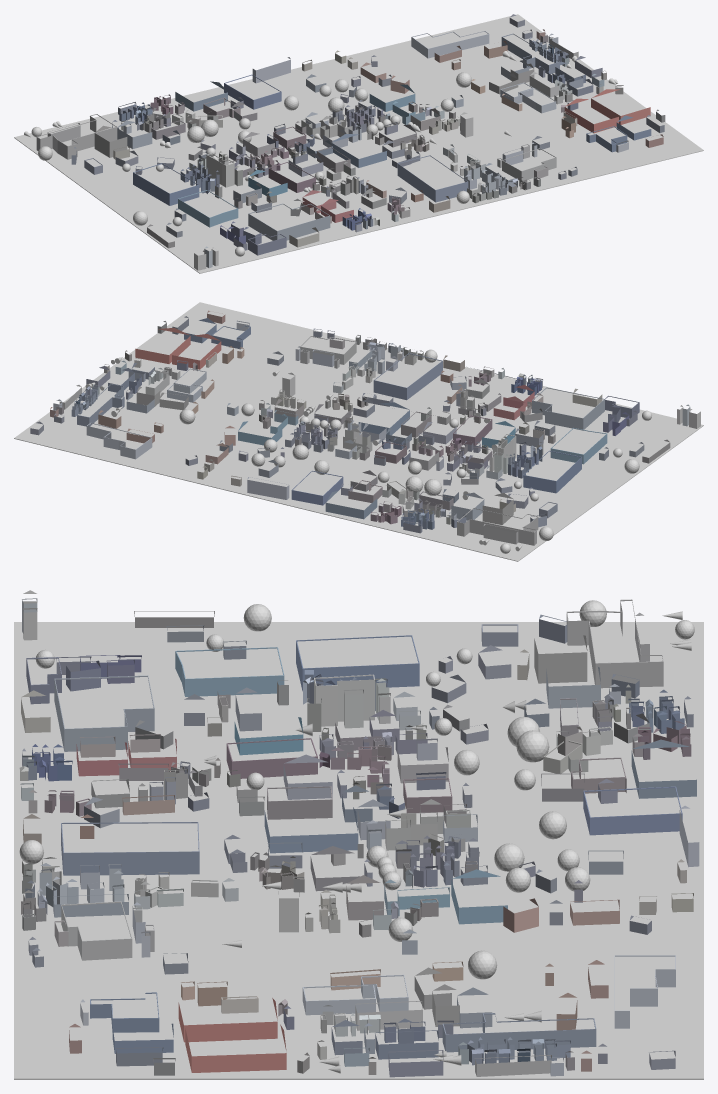
Rendered from scene_0b74d3b0-dfd0-415f-b9b6-0bf989dd04a2.glb.
3 views of the same model, one above another, from view 1: azimuth 30°, elevation 25°; view 2: azimuth 150°, elevation 25°; view 3: azimuth 270°, elevation 25° (orthographic). The views are drawn at different scales.
Parts seen in each view (by area): view 1: Ground_Base, BLD-005, BLD-003, BLD-001, BLD-002, BLD-010, BLD-007, BLD-008, BLD-014, BLD-036, BLD-013, BLD-004 (+10 smaller); view 2: Ground_Base, BLD-003, BLD-005, BLD-001, BLD-010, BLD-002, BLD-007, BLD-014, BLD-004, BLD-060, BLD-008, BLD-020 (+7 smaller); view 3: Ground_Base, BLD-001, BLD-014, BLD-005, BLD-003, BLD-002, BLD-007, BLD-008, BLD-036, BLD-004, BLD-006, BLD-011 (+30 smaller).
Boxes of the visible parts, x1,y1,x2,y2 form: Ground_Base: (14,14,703,273); BLD-005: (36,114,117,159); BLD-003: (248,203,330,240); BLD-001: (397,155,468,202); BLD-002: (133,163,199,205); BLD-010: (411,31,489,58); BLD-007: (178,190,238,227); BLD-008: (224,74,281,109); BLD-014: (501,33,559,74); BLD-036: (206,153,234,187); BLD-013: (502,148,556,180); BLD-004: (591,89,650,124); Ground_Base: (14,302,703,561); BLD-003: (532,387,604,430); BLD-005: (457,508,538,545); BLD-001: (373,353,442,400); BLD-010: (86,423,152,459); BLD-002: (523,450,581,493); BLD-007: (550,428,607,464); BLD-014: (77,384,124,426); BLD-004: (135,328,190,363); BLD-060: (247,477,289,499); BLD-008: (291,470,343,505); BLD-020: (482,493,513,524); Ground_Base: (14,622,703,1079); BLD-001: (61,822,199,875); BLD-014: (442,1013,596,1052); BLD-005: (566,599,663,688); BLD-003: (54,675,154,751); BLD-002: (296,635,419,691); BLD-007: (175,647,284,696); BLD-008: (583,786,682,835); BLD-036: (314,674,374,726); BLD-004: (185,1024,286,1072); BLD-006: (178,998,277,1042); BLD-011: (226,738,317,778).
Size of the model in its own units: 342 by 16.26 by 216.
